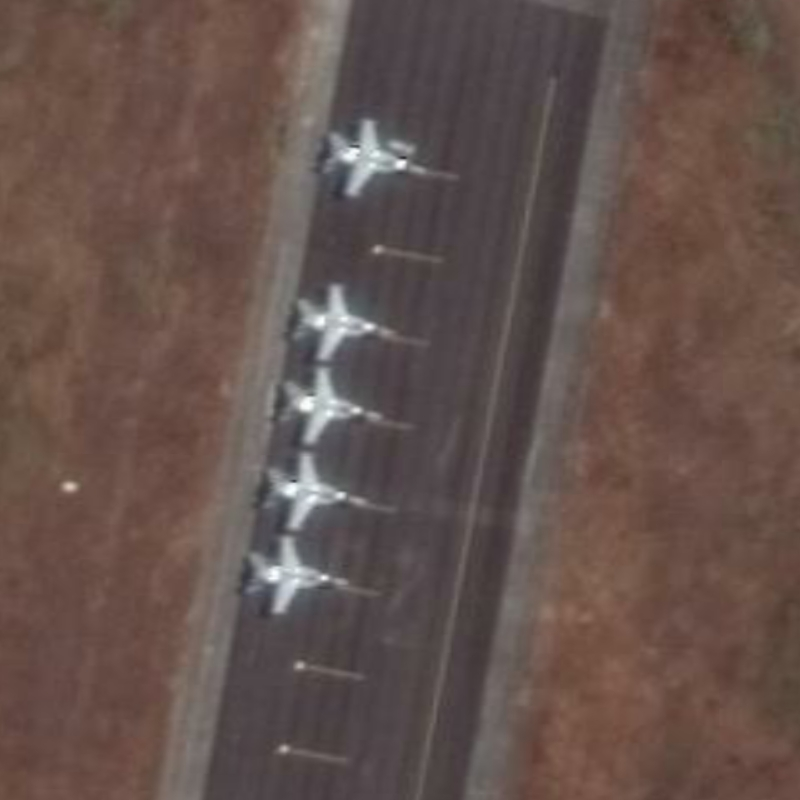A16: (310, 108, 439, 213), (283, 277, 403, 372), (249, 450, 377, 539), (265, 365, 397, 450), (231, 531, 355, 621)
